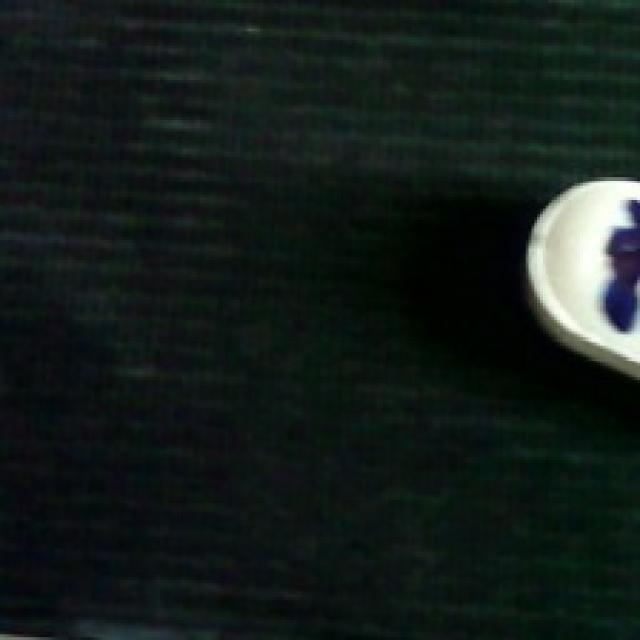defected: (523, 173, 640, 383)
